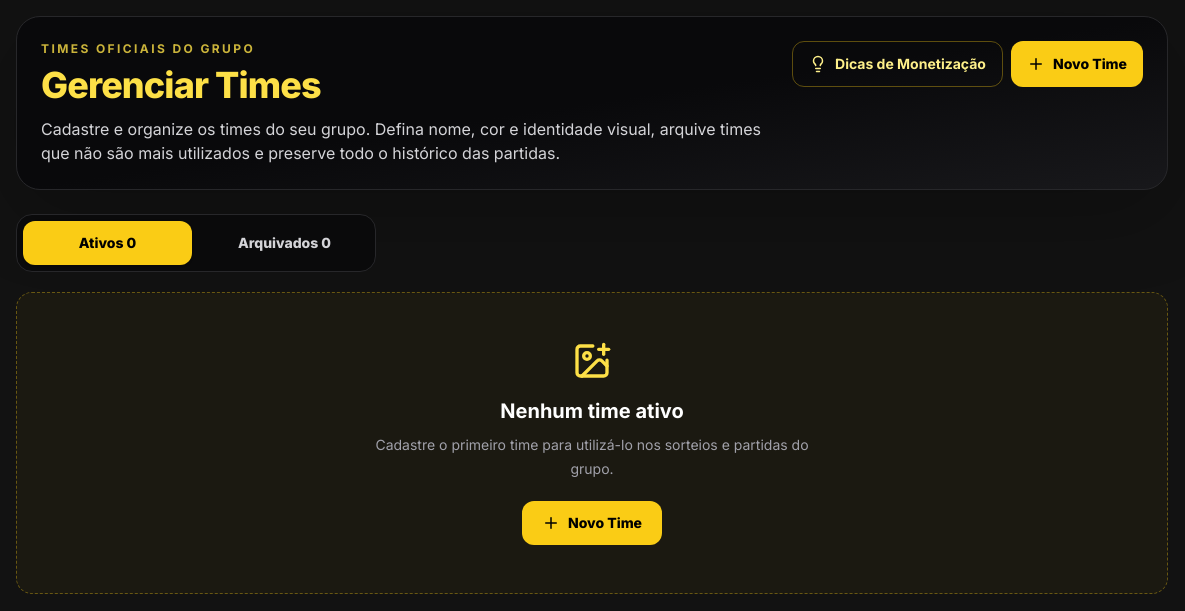
Test case: GerenciarTimesPage › mostra empty states de ativos e arquivados
Check: the heading "Nenhum time ativo" is shown, box top-left (500, 399), bottom-right (684, 423)
Click the tab "Arquivados 0" at (284, 243), box top-left (200, 221), bottom-right (369, 265)
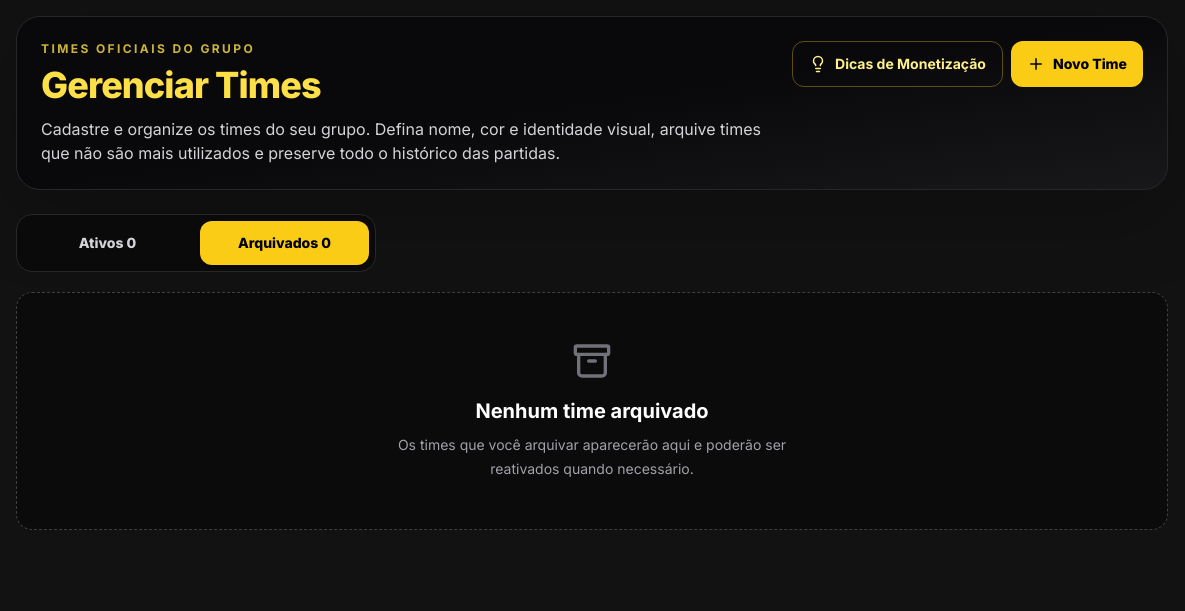
Check: the heading "Nenhum time arquivado" is shown, box top-left (475, 399), bottom-right (709, 423)
